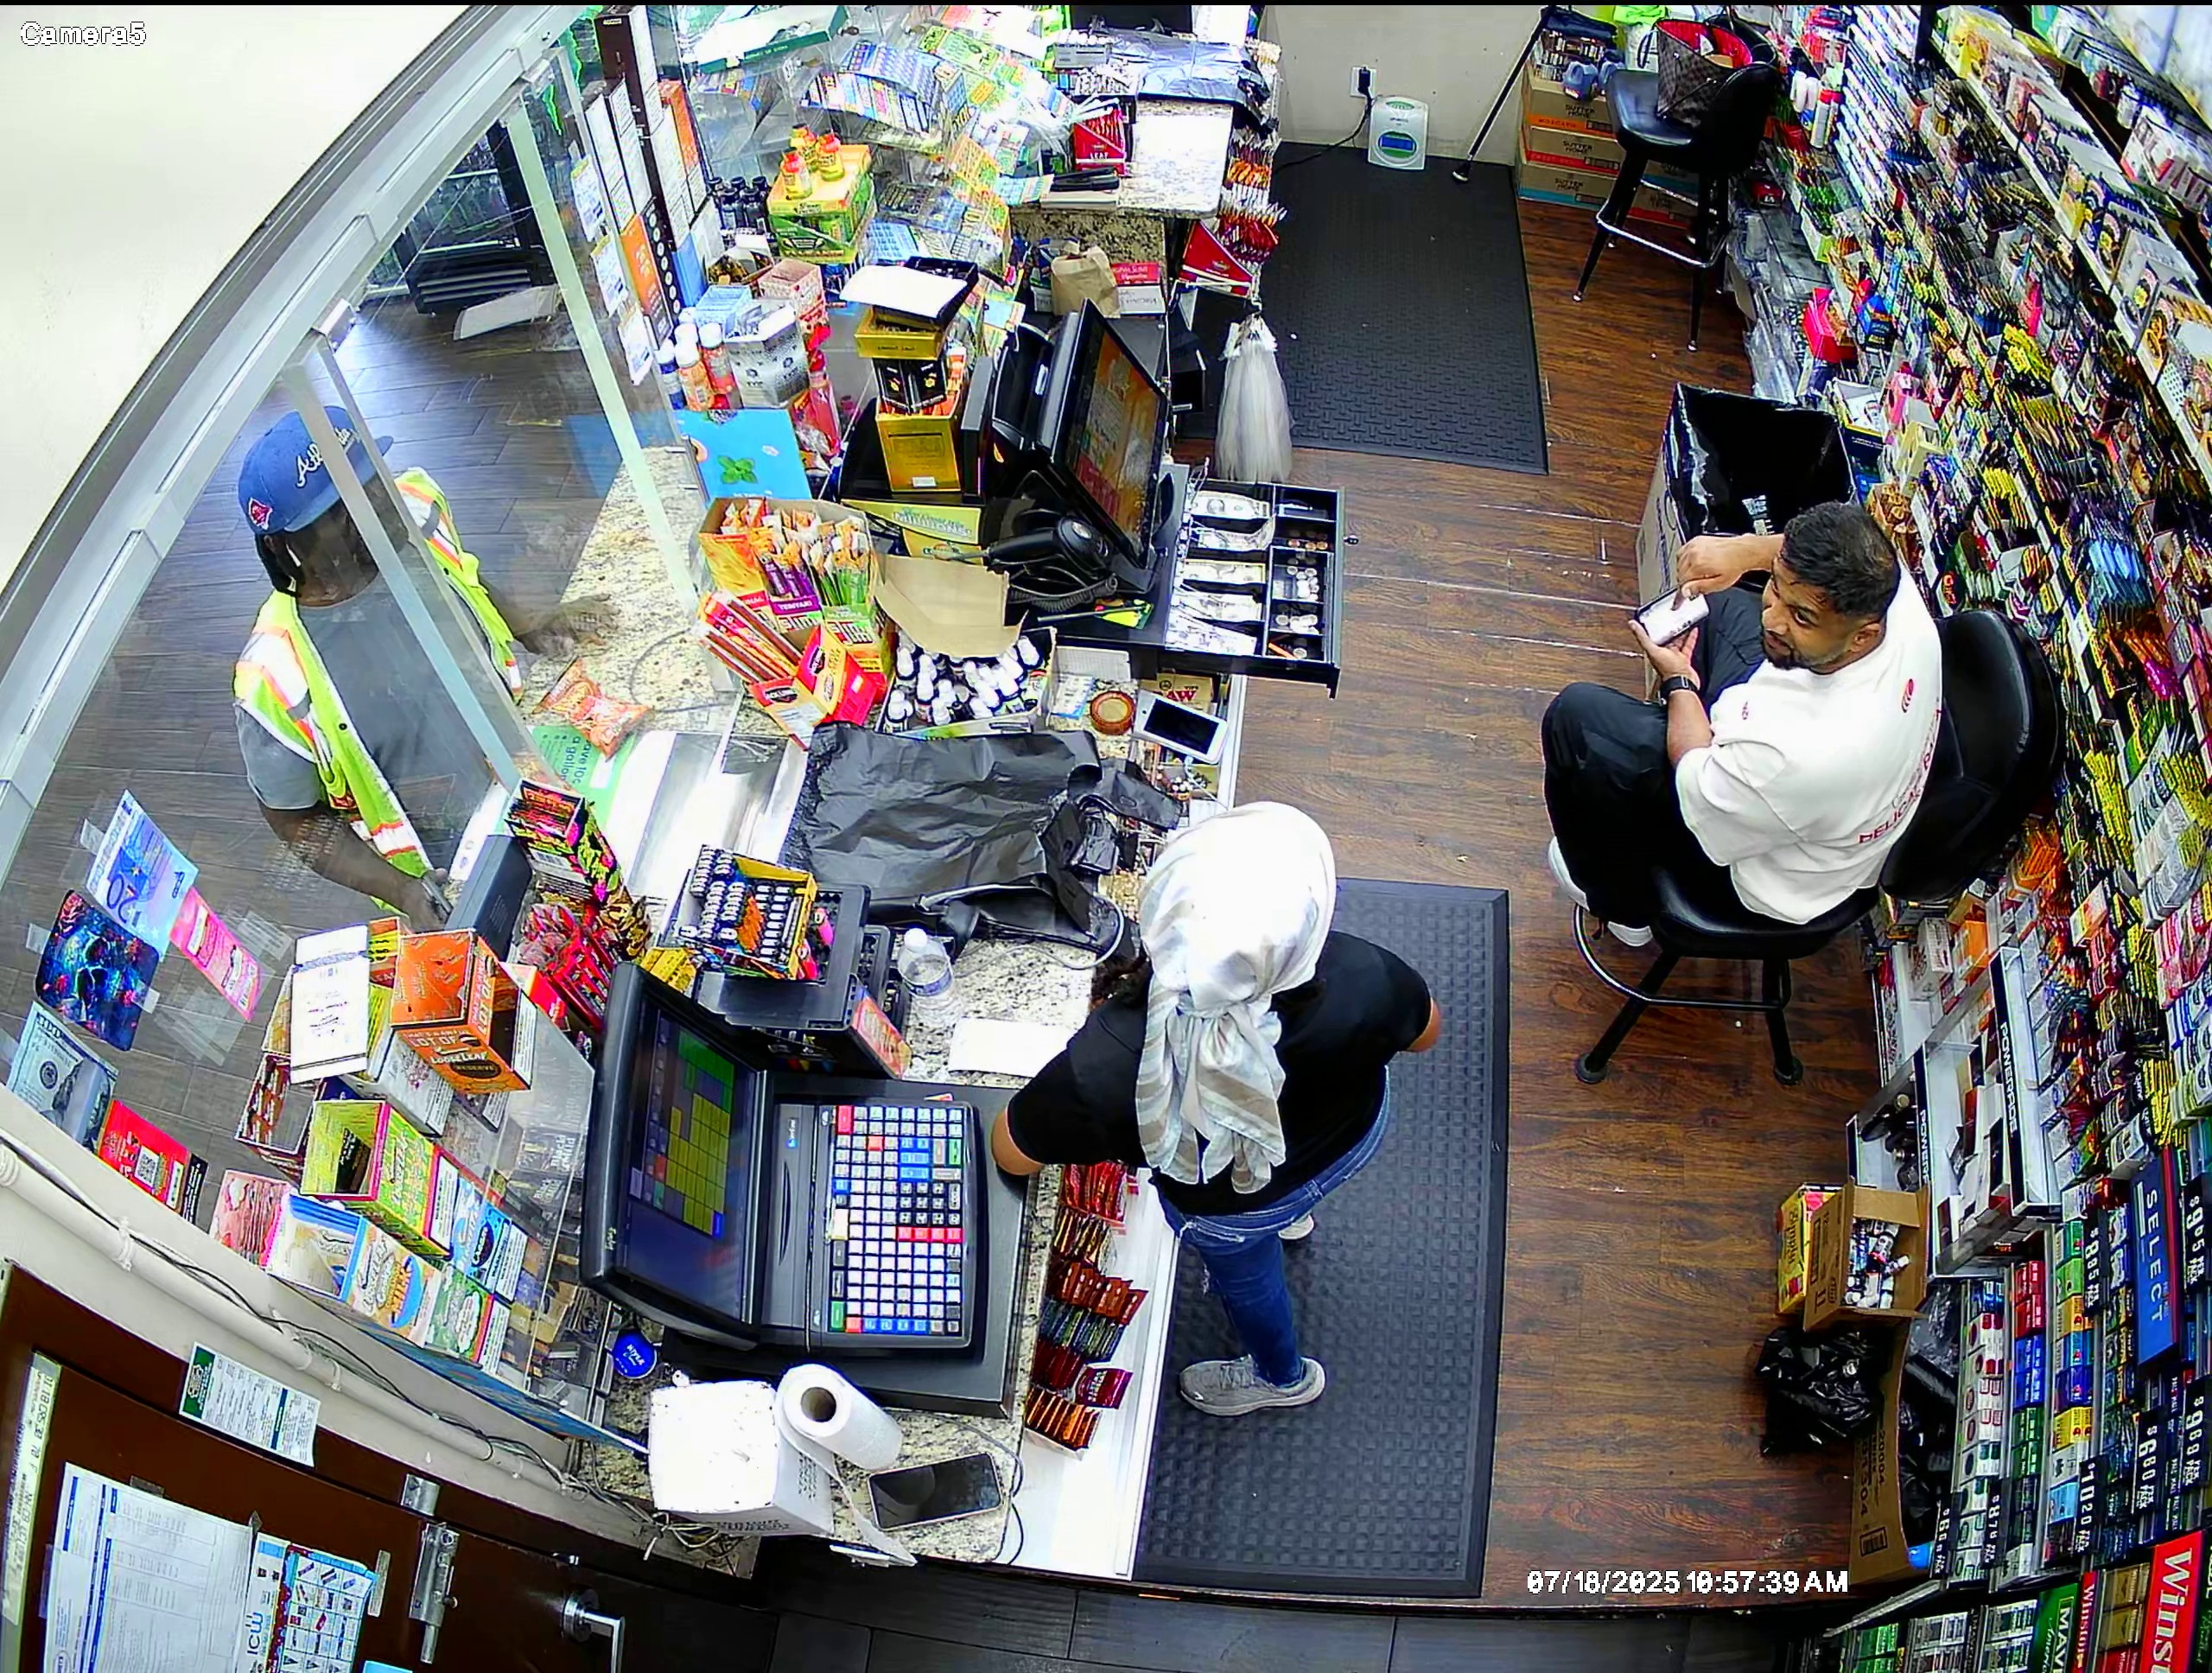phone: (1625, 575, 1720, 655), (416, 851, 457, 930)
